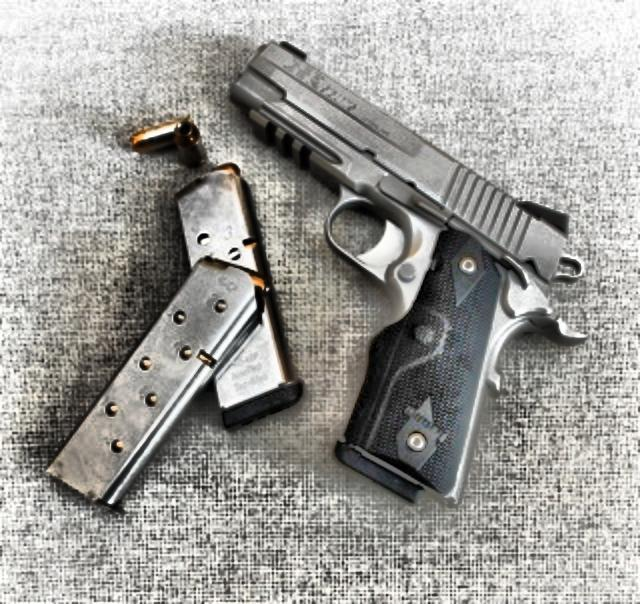pistol: (220, 40, 586, 506)
